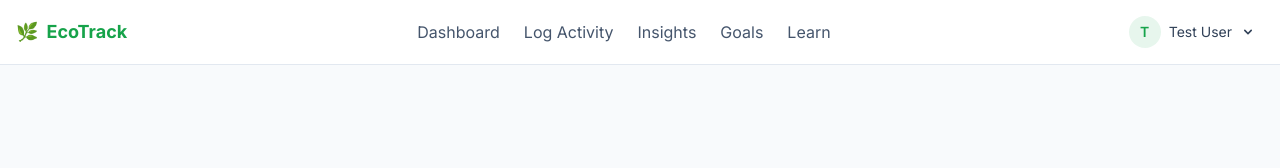
Test: Navbar › opens user menu when user button is clicked
Click the button "T Test User" at (1192, 32), box 1121,12 -> 1264,52
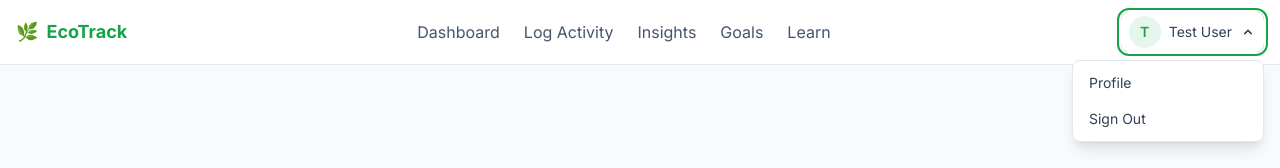
Result: the link "Profile" is shown at 1089,74 -> 1132,91
Result: the button "Sign Out" is shown at 1073,101 -> 1263,137
